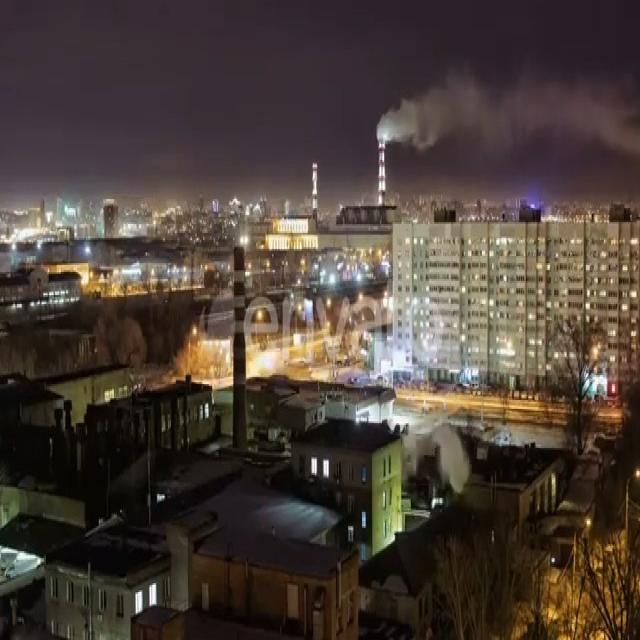smoke: (376, 71, 639, 155)
